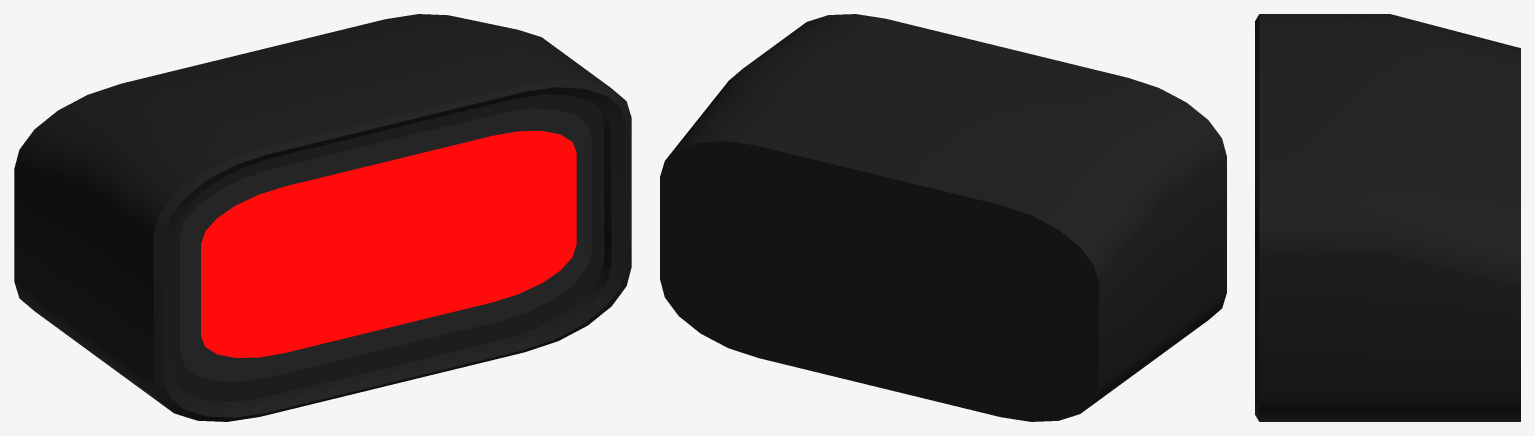
Rendered from Clock.glb.
3 renders of one model, left to right at view 1: azimuth 30°, elevation 25°; view 2: azimuth 150°, elevation 25°; view 3: azimuth 270°, elevation 25°, orthographic. The views are drawn at different scales.
Parts seen in each view (by area): view 1: Cube.112; view 2: Cube.112; view 3: Cube.112.
Part boxes in pixels (<box>): Cube.112: <box>14,14,631,421</box>; Cube.112: <box>660,14,1226,421</box>; Cube.112: <box>1255,14,1520,421</box>.
Size of the model in its own units: 0.562 by 0.3004 by 0.2887.
